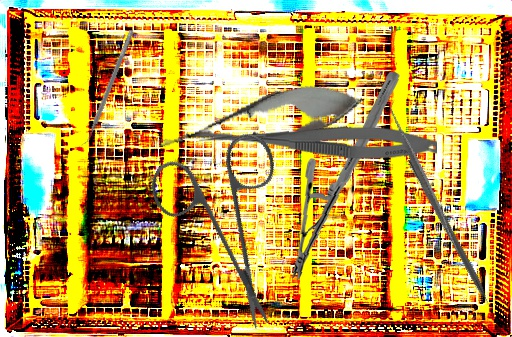Iris Scissors: (112, 102, 342, 333)
Micro Scissor: (153, 71, 368, 171), (198, 122, 438, 162)
Needle Holder: (279, 71, 411, 280)
Pusher: (405, 156, 502, 326)
Spatula Surgical: (343, 98, 505, 261), (78, 27, 135, 150)
